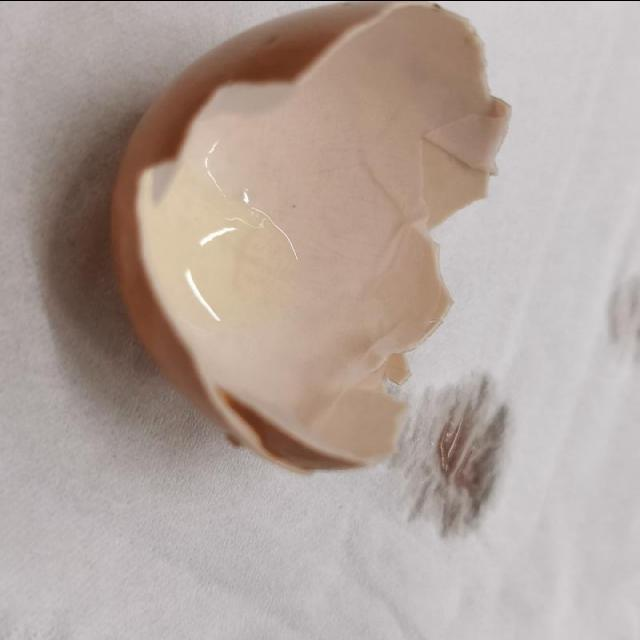egg shell: (107, 5, 513, 478)
